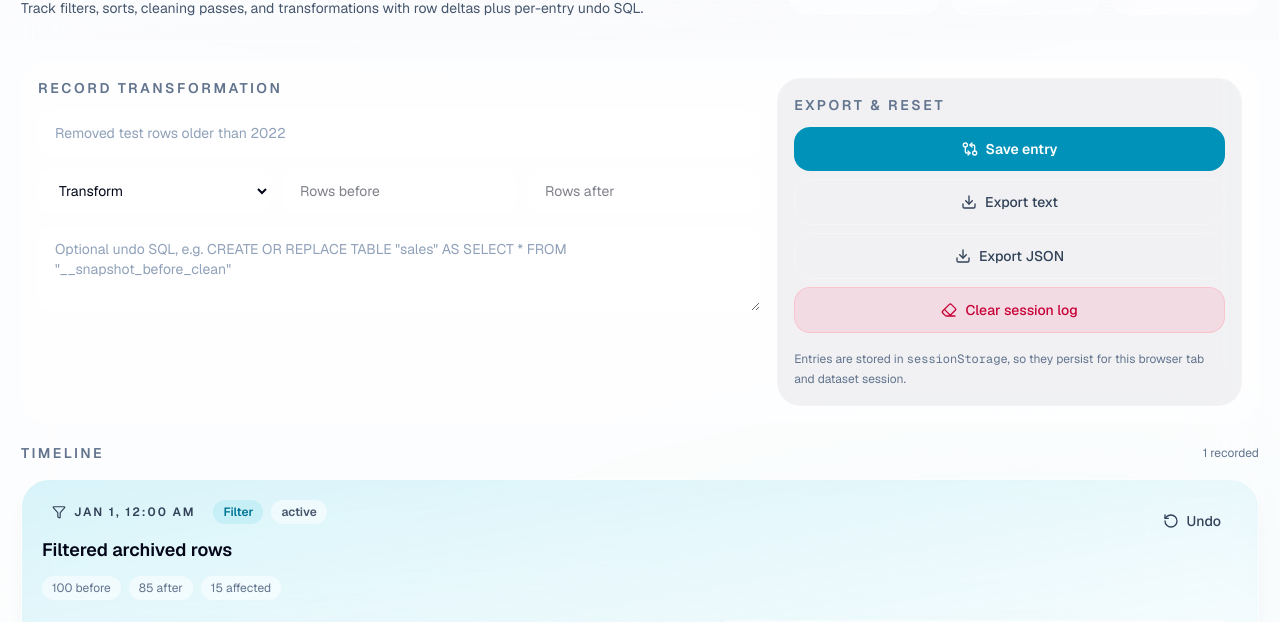
DataChangelog › runs undo SQL and appends a revert entry
Click the button "Undo". click: (1192, 521)
box: [1146, 500, 1238, 542]
(page scrolled)
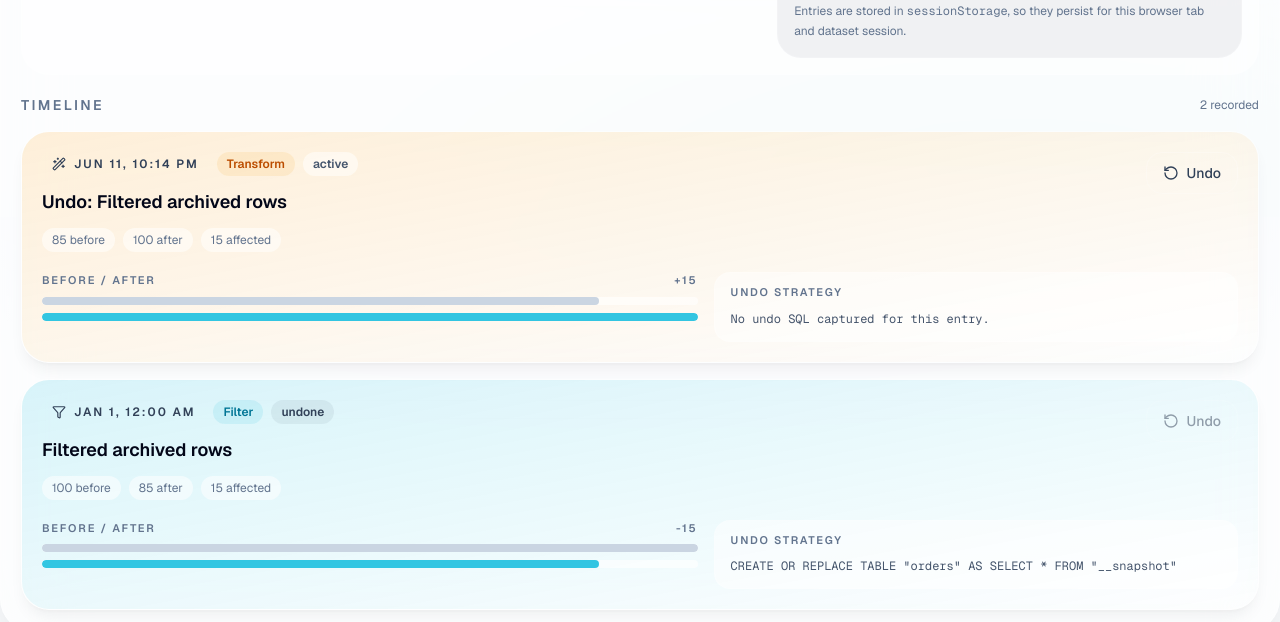
Now the heading "Undo: Filtered archived rows" is shown, box [42, 190, 287, 213]
Now the text "undone" is shown, box [271, 400, 334, 424]
